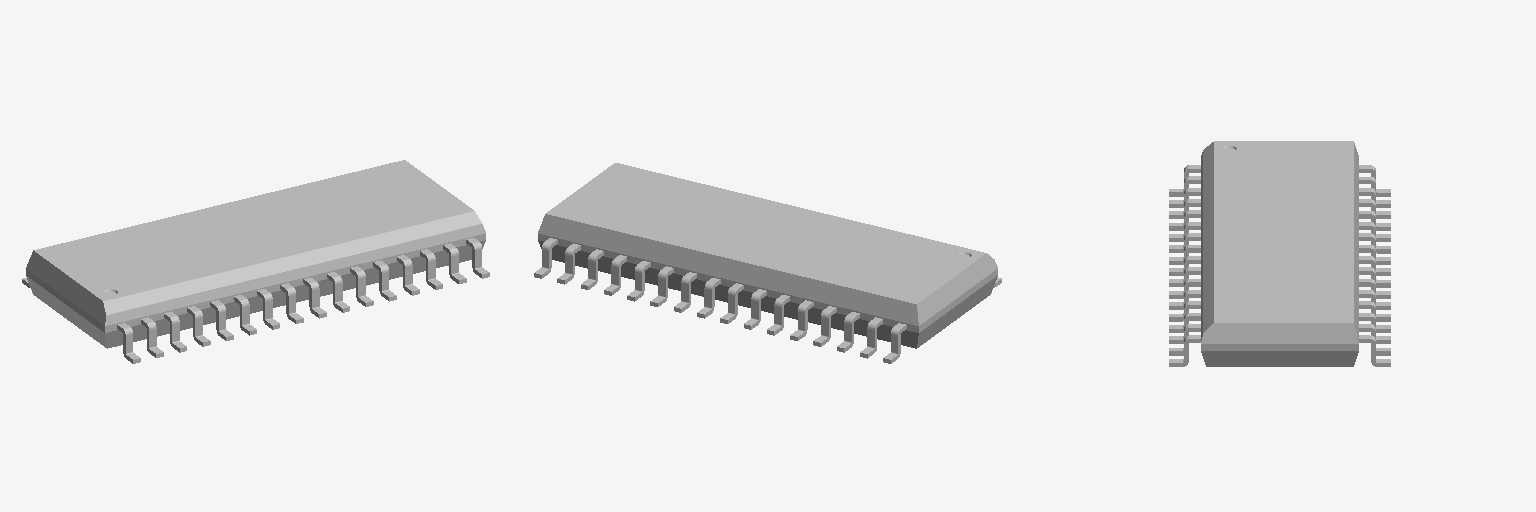
Rendered from SOIC.obj.
The picture shows the model from 3 angles: view 1: azimuth 30°, elevation 25°; view 2: azimuth 150°, elevation 25°; view 3: azimuth 270°, elevation 25°; orthographic projection.
Parts seen in each view (by area): view 1: Solid; view 2: Solid; view 3: Solid.
Boxes of the visible parts, x1=… form: Solid: x1=22, y1=160, x2=489, y2=363; Solid: x1=534, y1=163, x2=1001, y2=363; Solid: x1=1169, y1=141, x2=1390, y2=366.
Bounding box in the file's own units: 20.8 × 2.51 × 10.5.